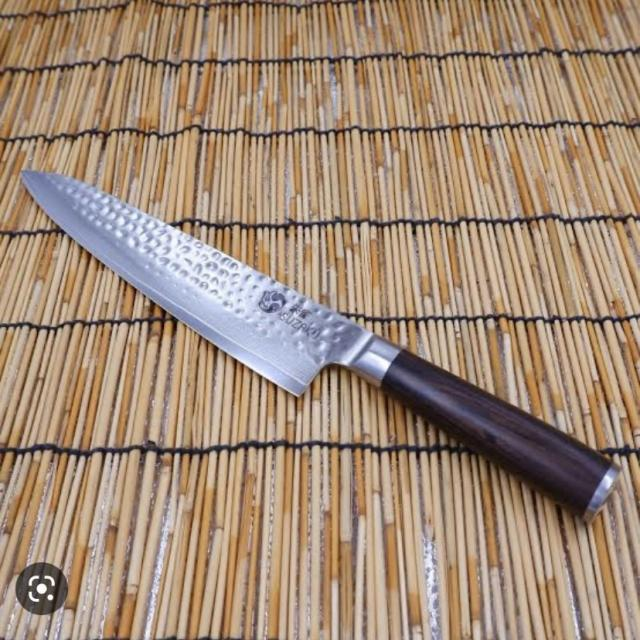Knife: (14, 146, 628, 528)
